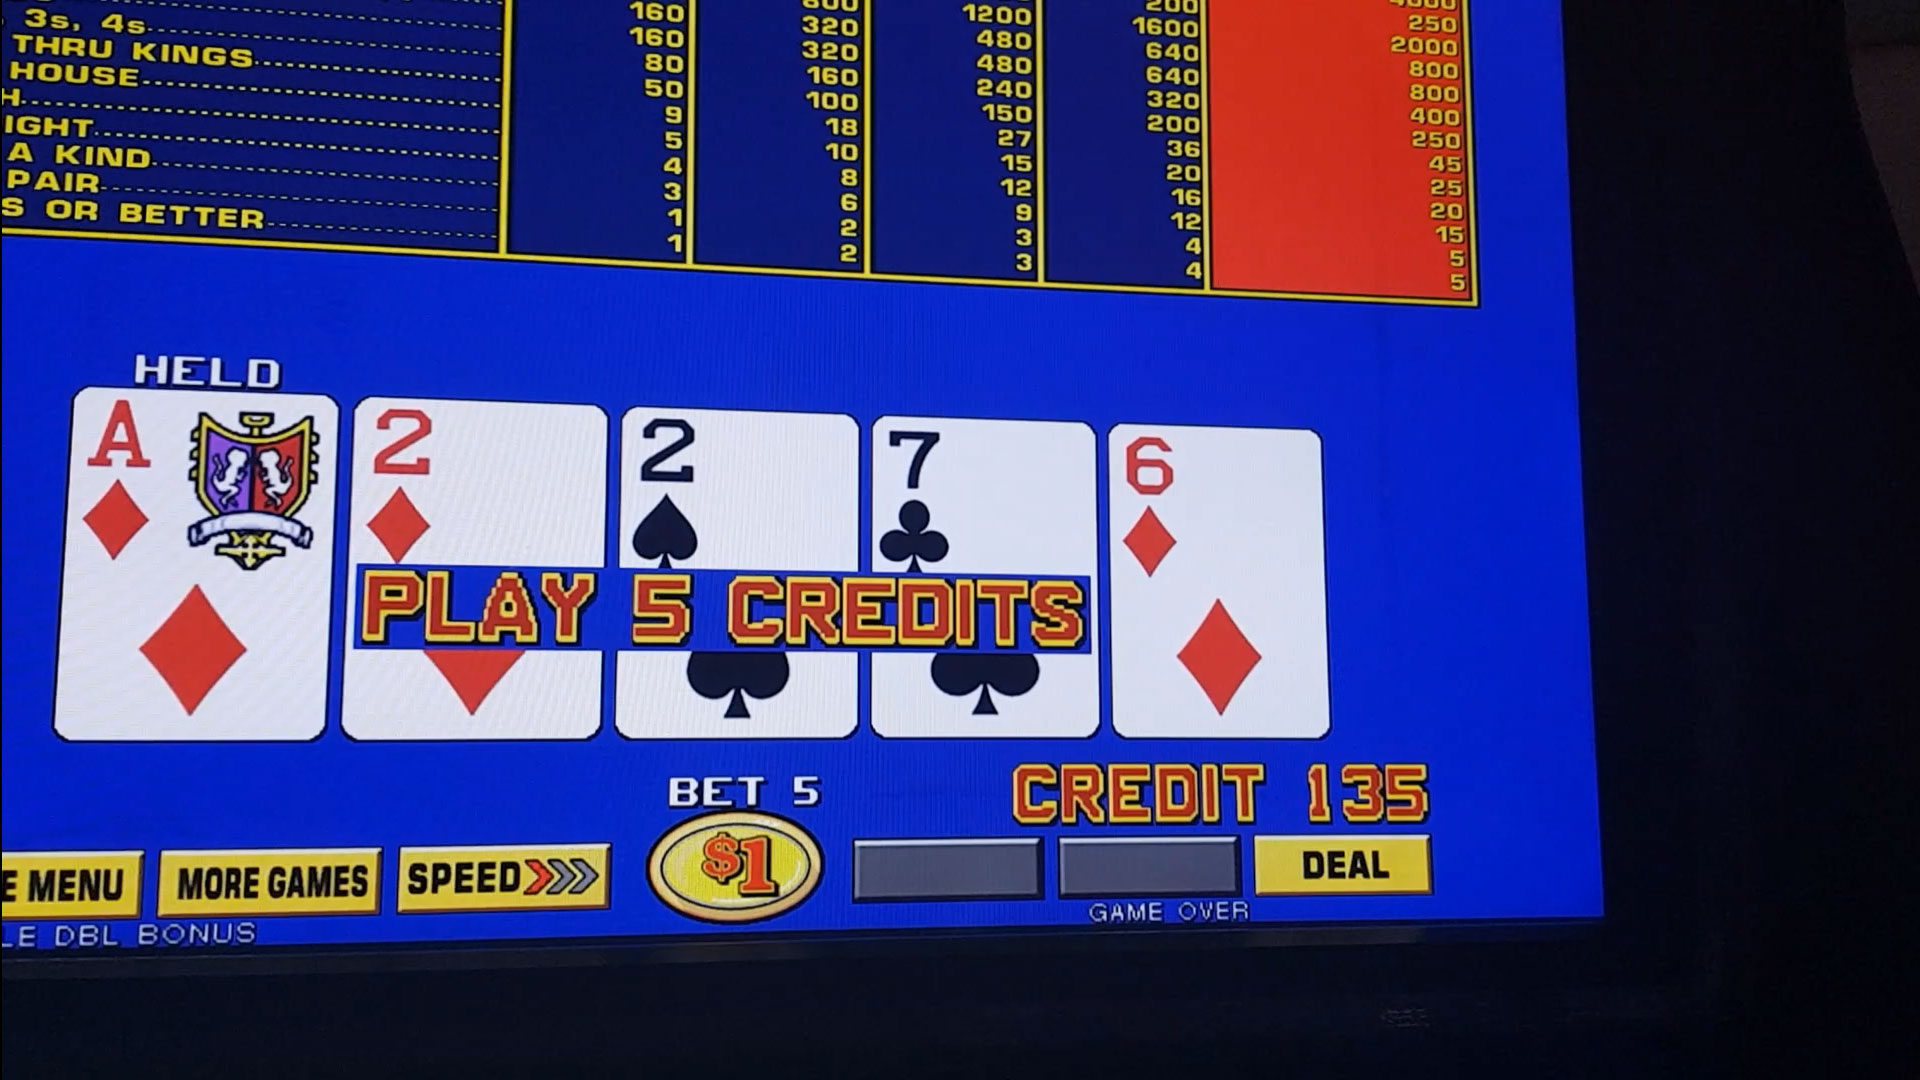C7: (876, 429, 1091, 568)
D2: (357, 406, 600, 562)
D6: (1114, 433, 1315, 589)
DA: (76, 393, 331, 571)
S2: (624, 414, 857, 567)
